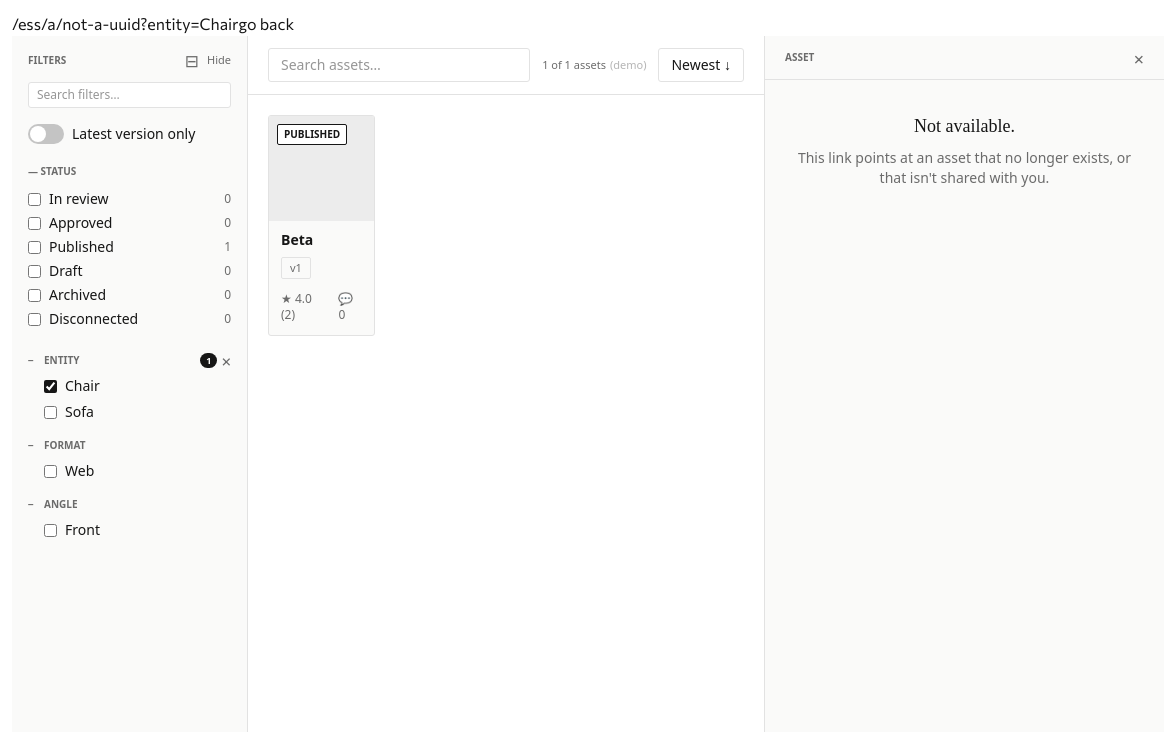
Scenario: cold load that cannot resolve › its close button returns to the grid
The width and height of the screenshot is (1164, 732).
Expected: the text "Not available." is shown, left=914, top=116, right=1015, bottom=136
Click the button named "Close" at (1139, 58), box left=1134, top=48, right=1144, bottom=66
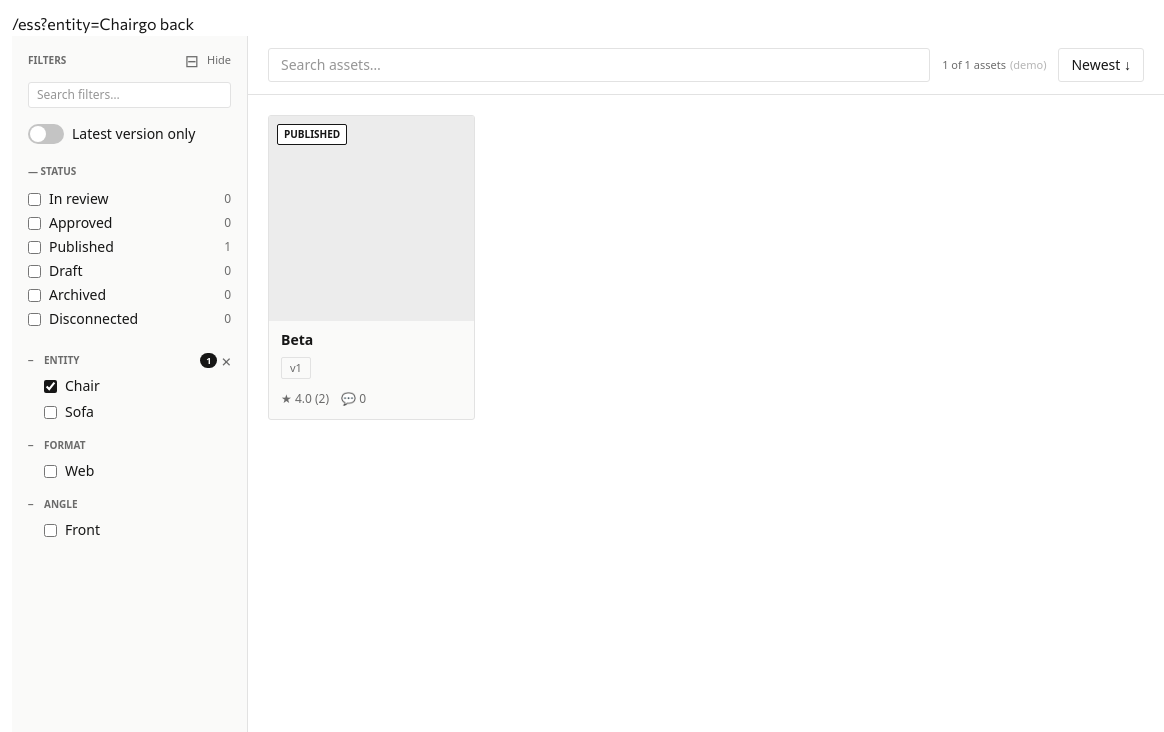
Expected: the text with test id "url" reads "/ess?entity=Chair", left=12, top=14, right=139, bottom=33
